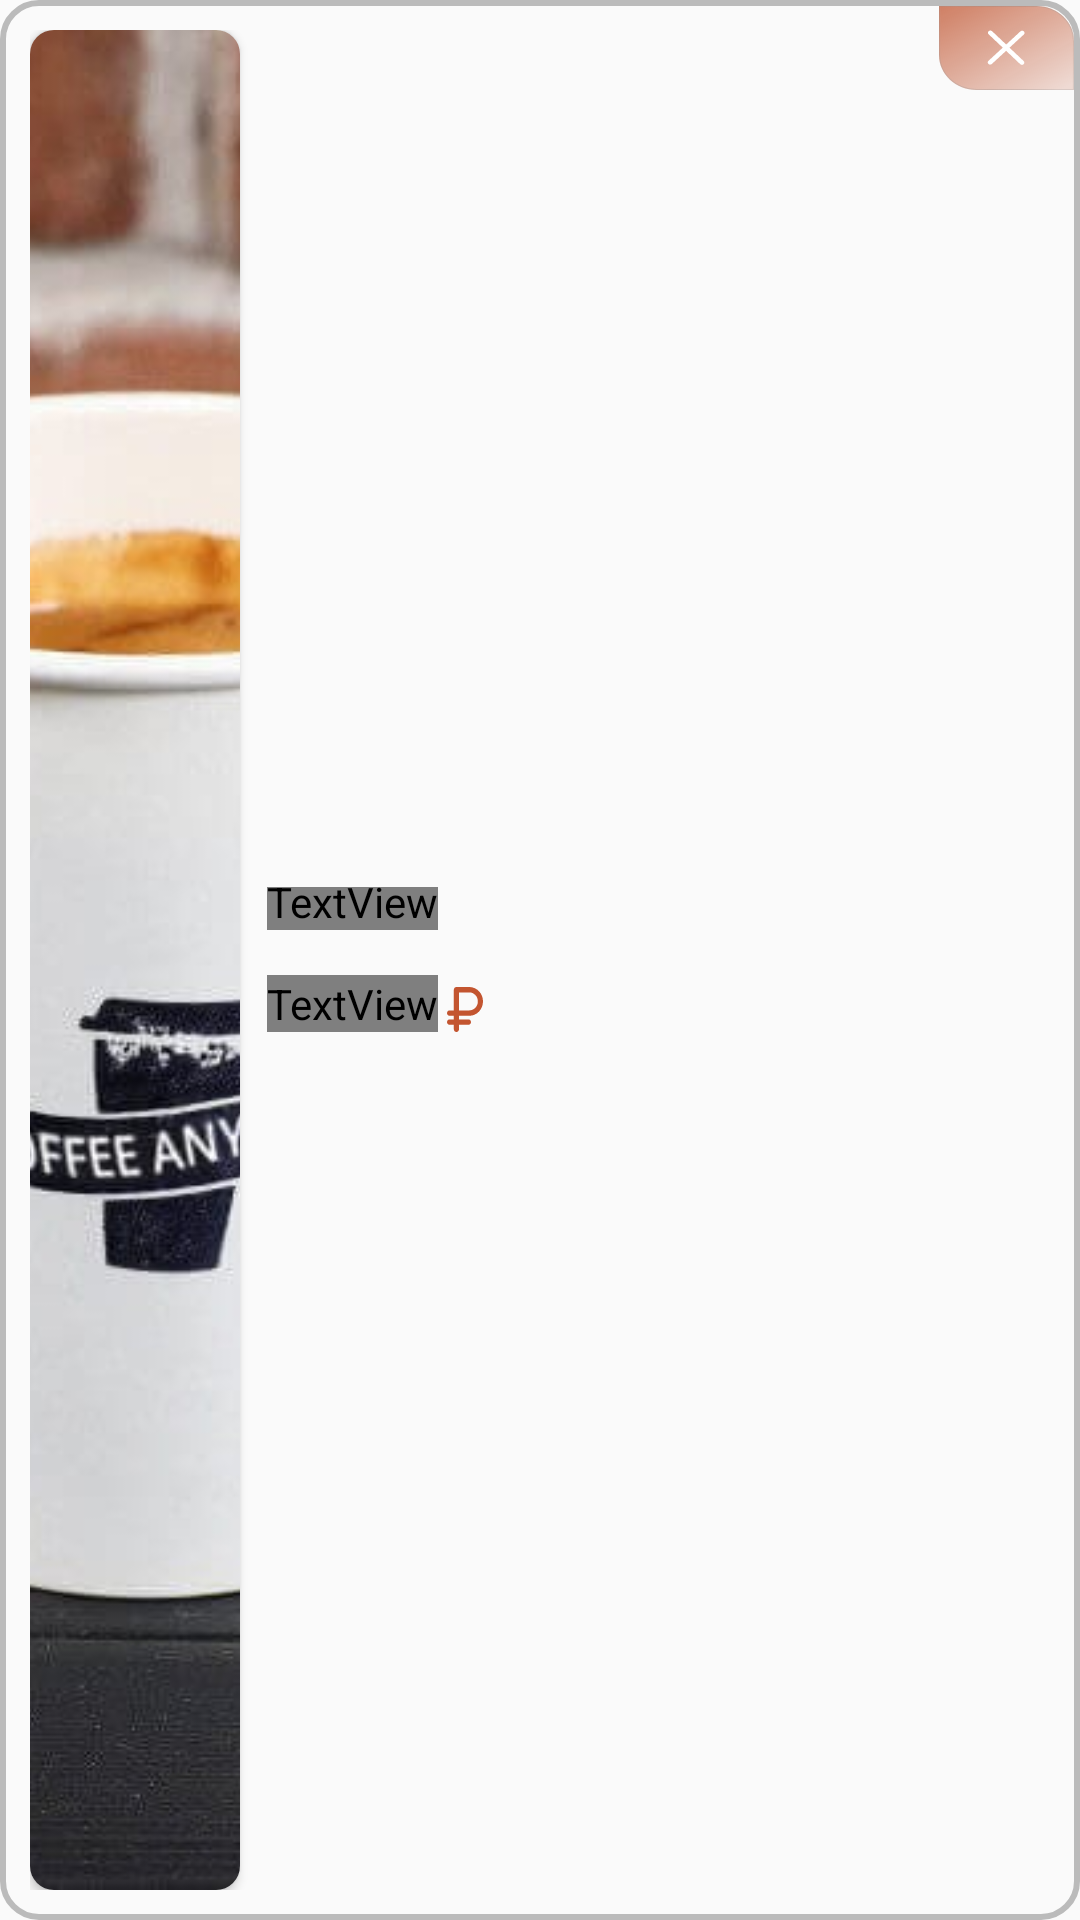

Icon click points for this 1080 × 1920 phone screenshot, format [x,y]:
favour cross: [1006,48]
rub: [465,1009]
